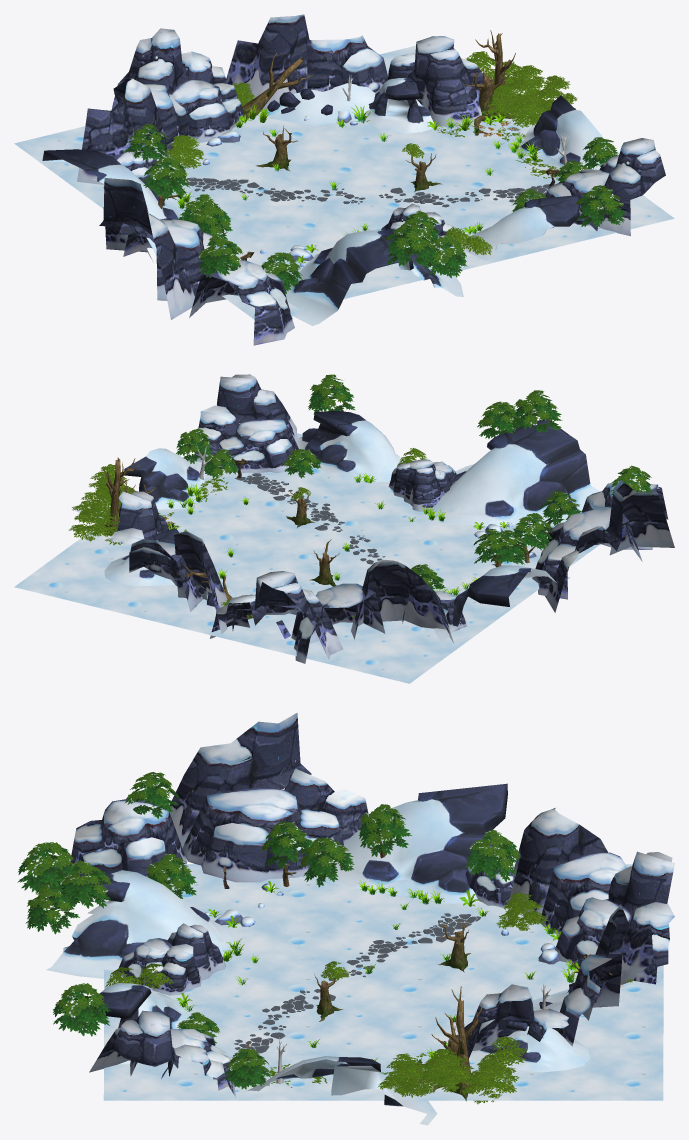
Rendered from scn002.FBX.
3 renders of one model, top to bottom at view 1: azimuth 30°, elevation 25°; view 2: azimuth 150°, elevation 25°; view 3: azimuth 270°, elevation 25°, orthographic. The views are drawn at different scales.
Visible parts, largest first — view 1: Plane002, default002detachobj355, 对象192, 对象075, 对象189, DrawCall_277, 对象187, 193, 对象191, Object024, DrawCall_283, DrawCall_279 (+11 smaller); view 2: Plane002, default002detachobj355, DrawCall_277, 对象189, 对象187, 对象191, DrawCall_279, 对象075, 对象192, DrawCall_283, 对象194, DrawCall_284 (+7 smaller); view 3: Plane002, default002detachobj355, 对象189, DrawCall_284, DrawCall_277, 对象075, 对象187, Object024, 对象192, 对象191, 对象194, 193 (+8 smaller).
Part boxes in pixels (x1,y1,x2,y2): Plane002: [14, 45, 674, 319]; default002detachobj355: [124, 51, 625, 293]; 对象192: [226, 14, 387, 111]; 对象075: [103, 28, 243, 188]; 对象189: [99, 178, 224, 319]; DrawCall_277: [285, 229, 463, 325]; 对象187: [77, 78, 189, 184]; 193: [388, 36, 493, 127]; 对象191: [545, 138, 665, 236]; Object024: [189, 260, 294, 345]; DrawCall_283: [516, 95, 606, 170]; DrawCall_279: [462, 195, 604, 260]; Plane002: [14, 423, 600, 683]; default002detachobj355: [69, 374, 652, 617]; DrawCall_277: [427, 419, 600, 526]; 对象189: [532, 480, 674, 612]; 对象187: [291, 559, 453, 663]; 对象191: [195, 374, 298, 473]; DrawCall_279: [296, 411, 404, 482]; 对象075: [210, 571, 466, 659]; 对象192: [129, 531, 227, 633]; DrawCall_283: [74, 448, 206, 518]; 对象194: [388, 459, 456, 511]; DrawCall_284: [434, 565, 569, 642]; Plane002: [103, 864, 663, 1100]; default002detachobj355: [17, 772, 633, 1104]; 对象189: [169, 713, 368, 882]; DrawCall_284: [326, 783, 514, 903]; DrawCall_277: [44, 866, 235, 978]; 对象075: [465, 845, 674, 984]; 对象187: [510, 808, 632, 933]; Object024: [70, 799, 187, 880]; 对象192: [560, 904, 653, 1046]; 对象191: [89, 1010, 235, 1097]; 对象194: [118, 923, 225, 995]; 193: [458, 984, 568, 1058].
Bounding box in the file's own units: 86.84 × 19.03 × 81.74.
